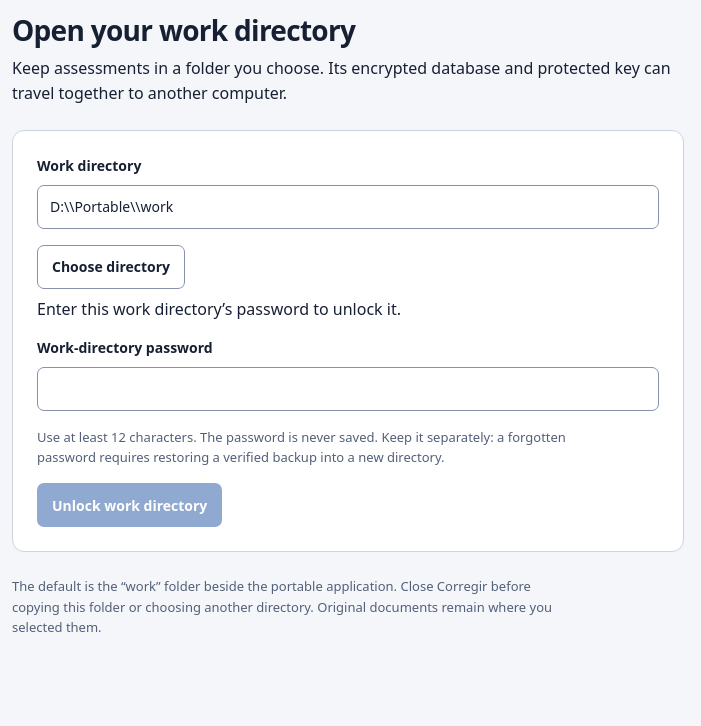
clears a rejected password and keeps the locked directory selectable
Type "incorrect password" into the password field labelled "Work-directory password" at [348, 389], box [37, 367, 659, 411]
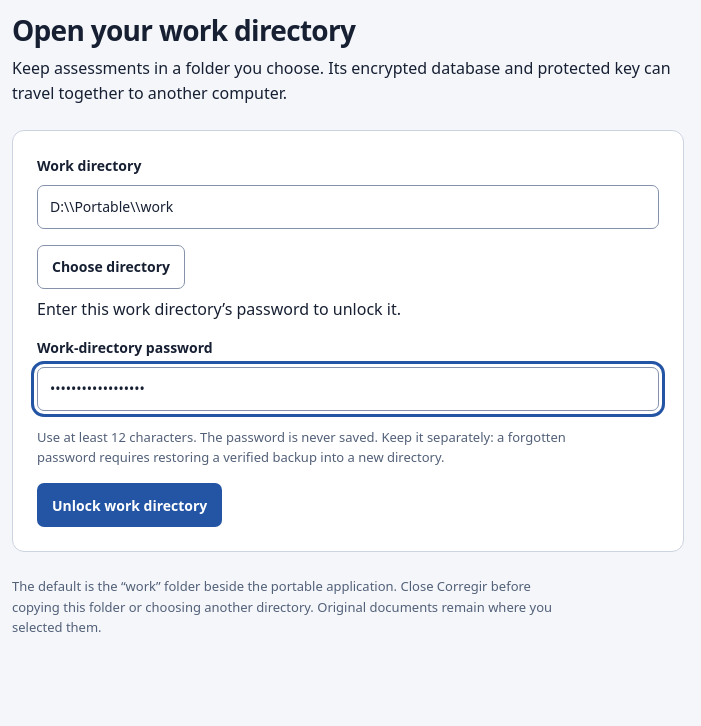
Click the button "Unlock work directory" at [130, 505], box [37, 483, 222, 527]
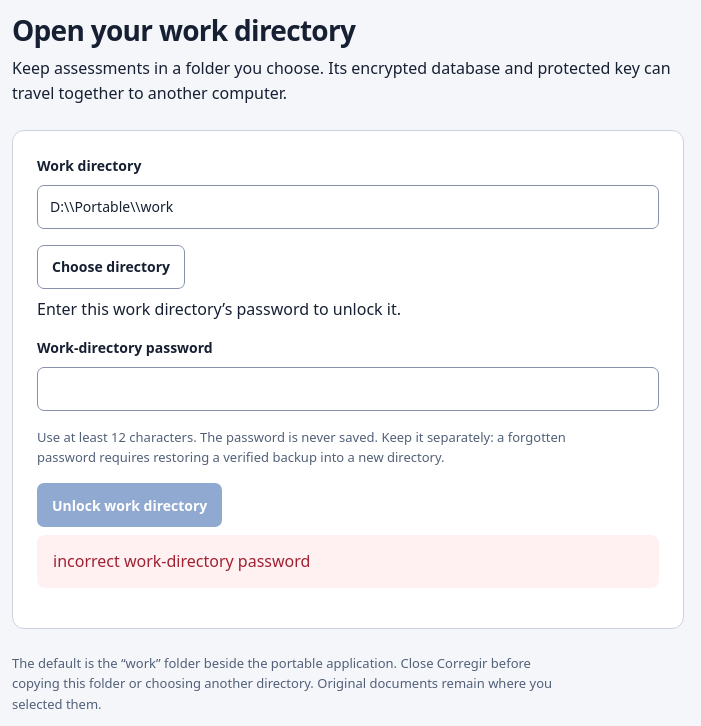
Expected: the button "Choose directory" is enabled, [37, 245, 185, 289]
Now the message reads "incorrect work-directory password", box [53, 550, 310, 572]
Now the password field labelled "Work-directory password" is empty, box [37, 367, 659, 411]
